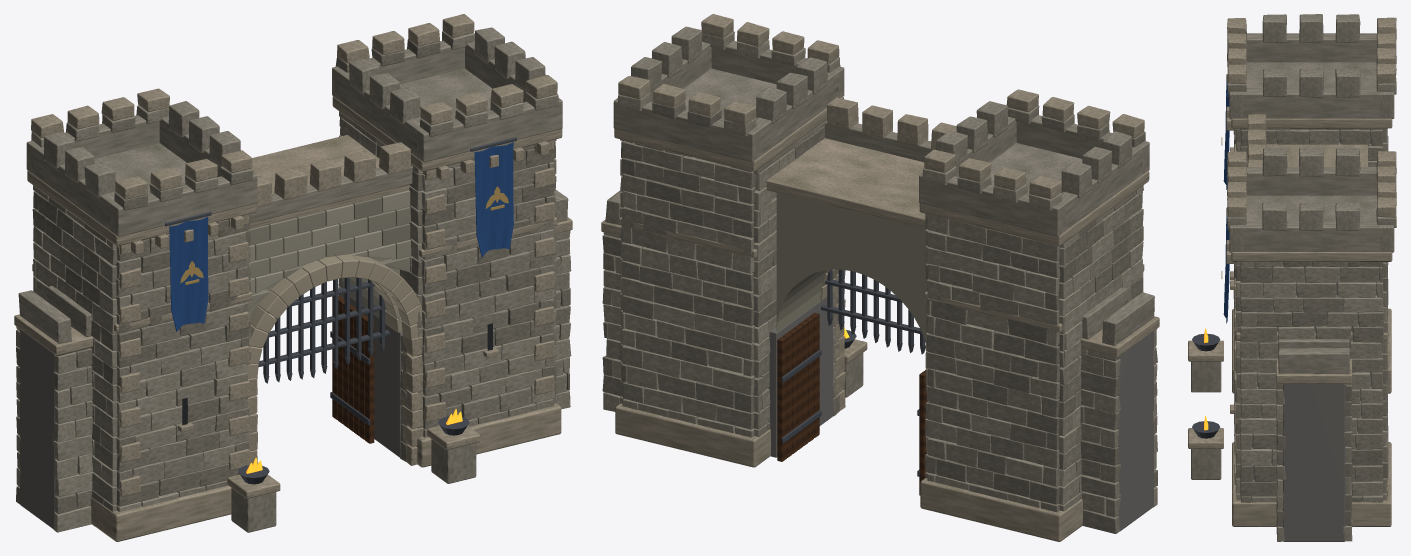
The model's file is ValoriaHeroGate.glb.
The picture shows the model from 3 angles, left to right: view 1: azimuth 30°, elevation 25°; view 2: azimuth 150°, elevation 25°; view 3: azimuth 270°, elevation 25°; orthographic projection. The views are drawn at different scales.
Visible parts, largest first — view 1: Battered tower foot, Tower front ashlar.002, Tower front ashlar.003, Tower front ashlar.001, Tower front ashlar, Tower front ashlar.027, Tower front ashlar.008, Tower structural core, Banner mounting bar, Royal blue Valoria banner, Open oak gate leaf; view 2: Tower front ashlar.002, Battered tower foot, Tower front ashlar.001, Tower front ashlar.003, Tower front ashlar.027, Tower front ashlar, Tower front ashlar.008, Tower structural core, Open oak gate leaf, Banner mounting bar; view 3: Tower front ashlar.002, Battered tower foot, Tower front ashlar.003, Tower structural core, Tower front ashlar.008, Tower front ashlar.027, Tower front ashlar, Tower front ashlar.001, Banner mounting bar, Royal blue Valoria banner.
Part boxes in pixels (bbox=[...]): Battered tower foot: bbox=[14, 14, 572, 541]; Tower front ashlar.002: bbox=[16, 27, 570, 483]; Tower front ashlar.003: bbox=[16, 68, 569, 532]; Tower front ashlar.001: bbox=[16, 39, 570, 514]; Tower front ashlar: bbox=[31, 101, 571, 532]; Tower front ashlar.027: bbox=[16, 31, 571, 479]; Tower front ashlar.008: bbox=[16, 117, 570, 508]; Tower structural core: bbox=[20, 293, 402, 528]; Banner mounting bar: bbox=[165, 137, 516, 484]; Royal blue Valoria banner: bbox=[169, 142, 513, 331]; Open oak gate leaf: bbox=[332, 295, 374, 443]; Tower front ashlar.002: bbox=[605, 26, 1157, 511]; Battered tower foot: bbox=[601, 14, 1159, 541]; Tower front ashlar.001: bbox=[602, 101, 1157, 504]; Tower front ashlar.003: bbox=[603, 68, 1157, 516]; Tower front ashlar.027: bbox=[603, 31, 1157, 514]; Tower front ashlar: bbox=[603, 40, 1157, 507]; Tower front ashlar.008: bbox=[602, 141, 1157, 533]; Tower structural core: bbox=[607, 293, 1153, 530]; Open oak gate leaf: bbox=[777, 312, 927, 495]; Banner mounting bar: bbox=[781, 269, 925, 476]; Tower front ashlar.002: bbox=[1227, 14, 1396, 534]; Battered tower foot: bbox=[1188, 17, 1396, 526]; Tower front ashlar.003: bbox=[1191, 52, 1396, 524]; Tower structural core: bbox=[1252, 129, 1379, 541]; Tower front ashlar.008: bbox=[1235, 128, 1388, 502]; Tower front ashlar.027: bbox=[1227, 60, 1396, 541]; Tower front ashlar: bbox=[1227, 29, 1396, 541]; Tower front ashlar.001: bbox=[1235, 31, 1396, 526]; Banner mounting bar: bbox=[1192, 94, 1229, 438]; Royal blue Valoria banner: bbox=[1223, 82, 1229, 323].
Bounding box in the file's own units: 11.58 × 7.63 × 4.52.
14 materials, 8 textured.
